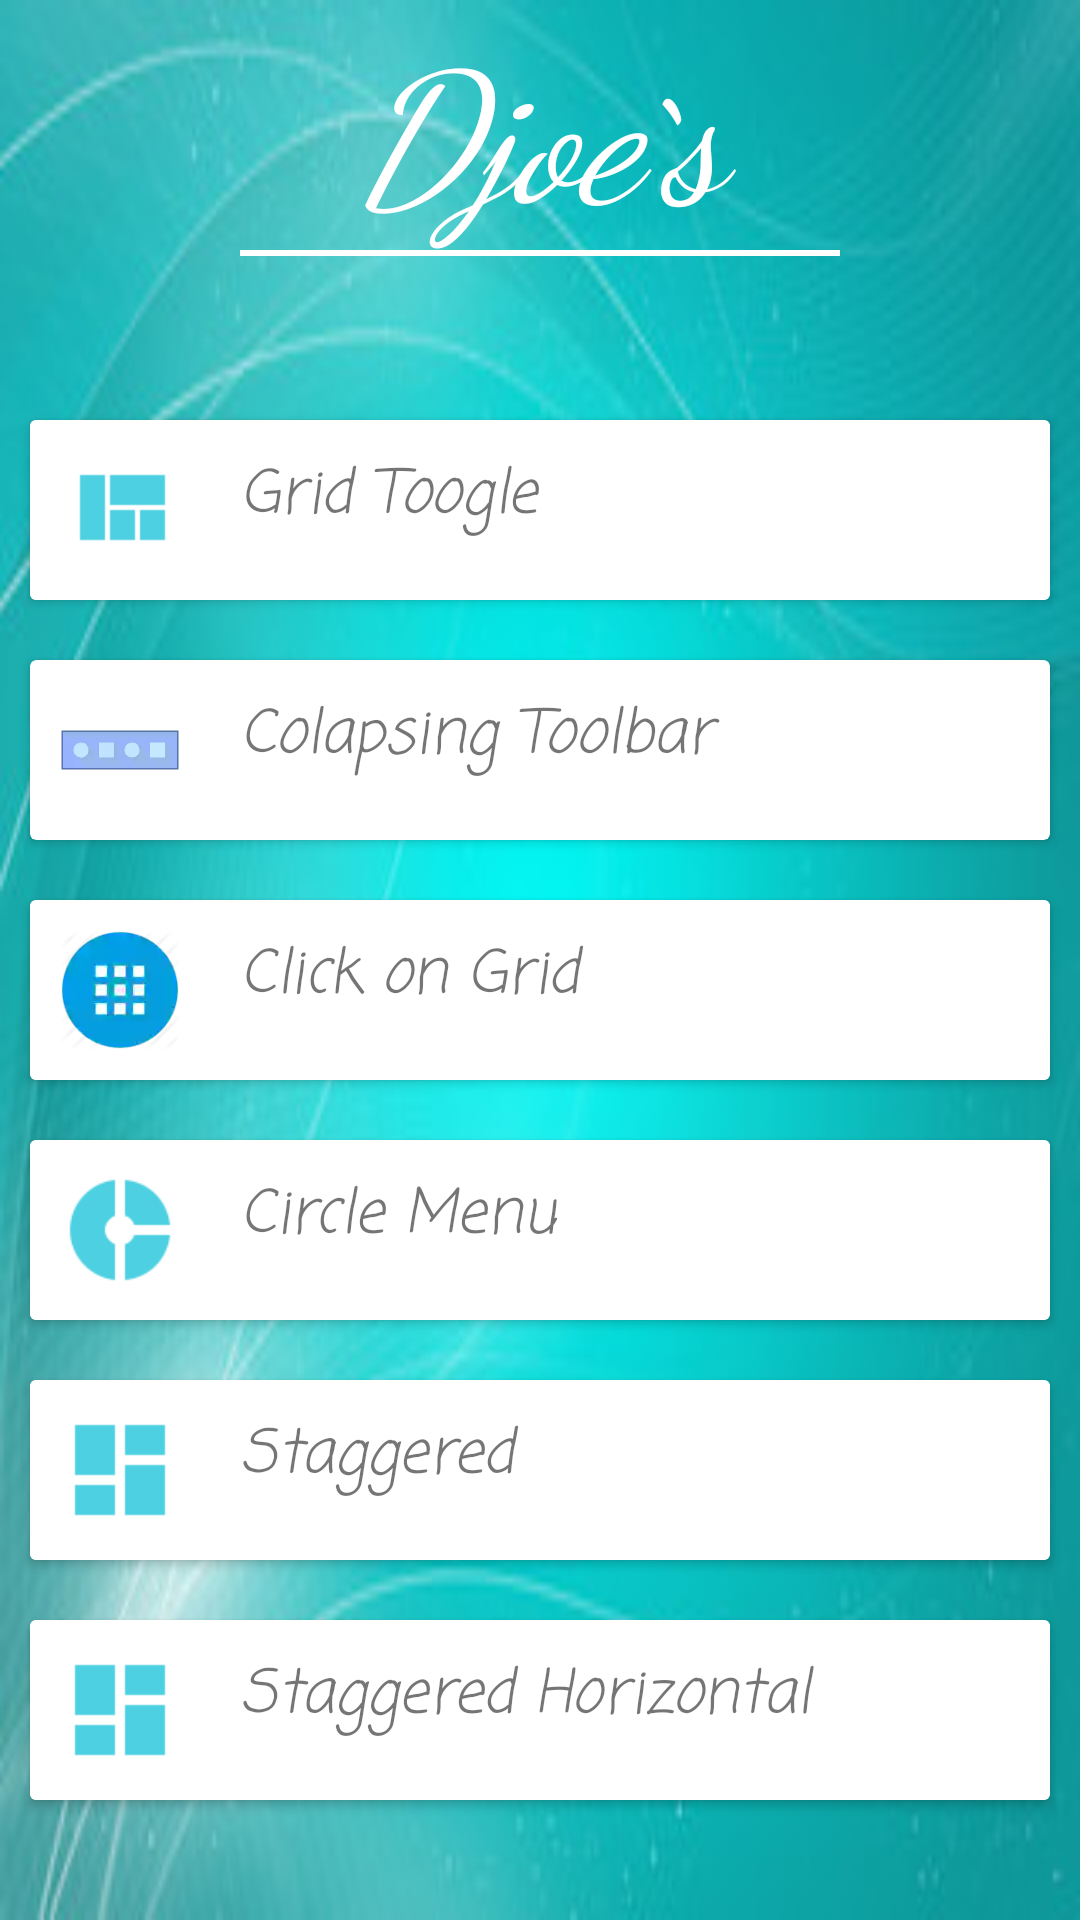

Where to tap for icons on this 1080w x 1920h app screen, as point (x, y):
dashboard cyan: point (120, 1470), point (120, 1710)
view quilt cyan: point (122, 507)
